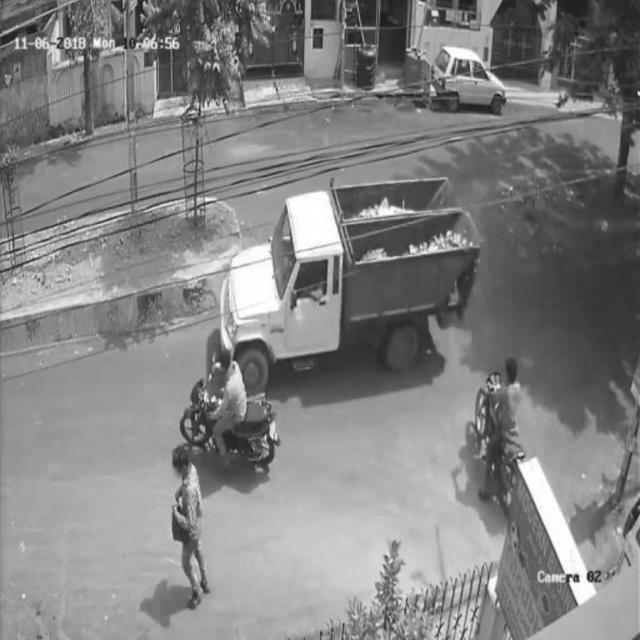person: (173, 438, 211, 600)
vehicle: (226, 184, 474, 374), (179, 352, 285, 470), (472, 352, 532, 504), (430, 47, 507, 121)
